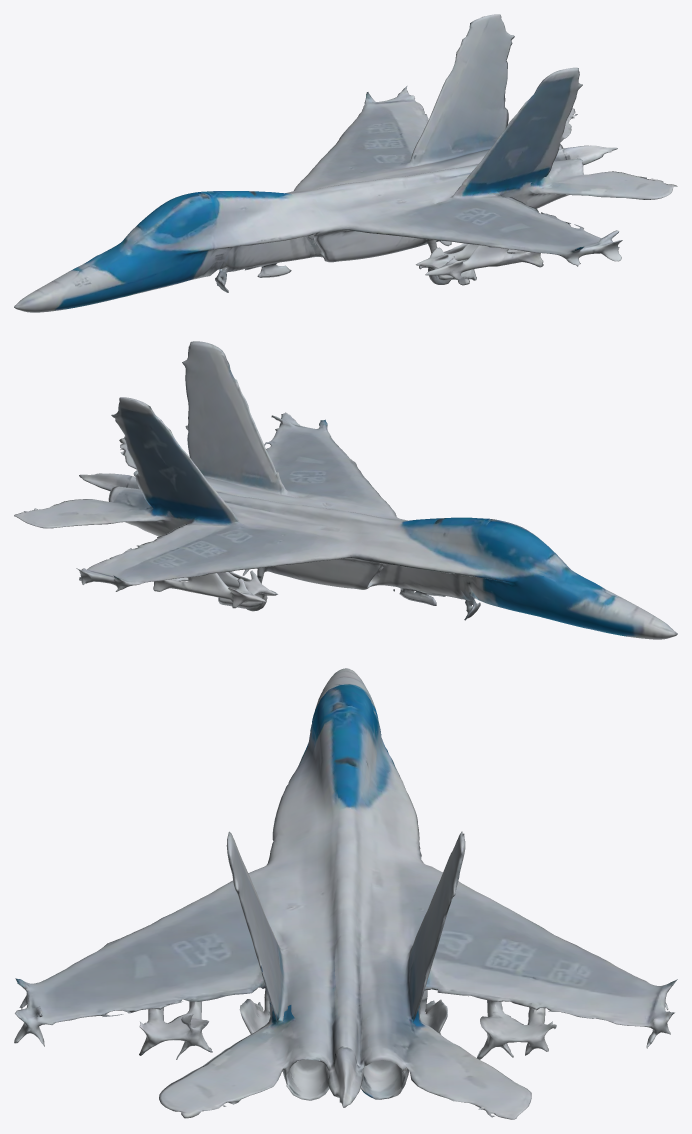
3 views of the same model, one above another, from view 1: azimuth 30°, elevation 25°; view 2: azimuth 150°, elevation 25°; view 3: azimuth 270°, elevation 25° (orthographic). The views are drawn at different scales.
Parts seen in each view (by area): view 1: cn-j35; view 2: cn-j35; view 3: cn-j35.
Boxes of the visible parts, x1,y1,x2,y2 form: cn-j35: (14,14,677,312); cn-j35: (14,341,677,639); cn-j35: (14,668,677,1119).
Bounding box in the file's own units: 17.3 × 5.32 × 10.43.
1 material, 1 textured.
